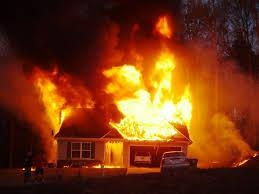fire: (104, 23, 196, 142)
